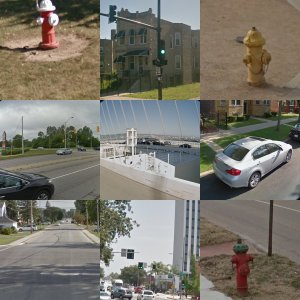公車: (200, 200, 252, 263), (28, 250, 85, 279)
汽車: (1, 162, 100, 201), (33, 19, 100, 75), (3, 125, 80, 171), (1, 269, 41, 300), (237, 131, 253, 143)
煙囪: (209, 35, 226, 63)
紅綠燈: (169, 117, 187, 146)
